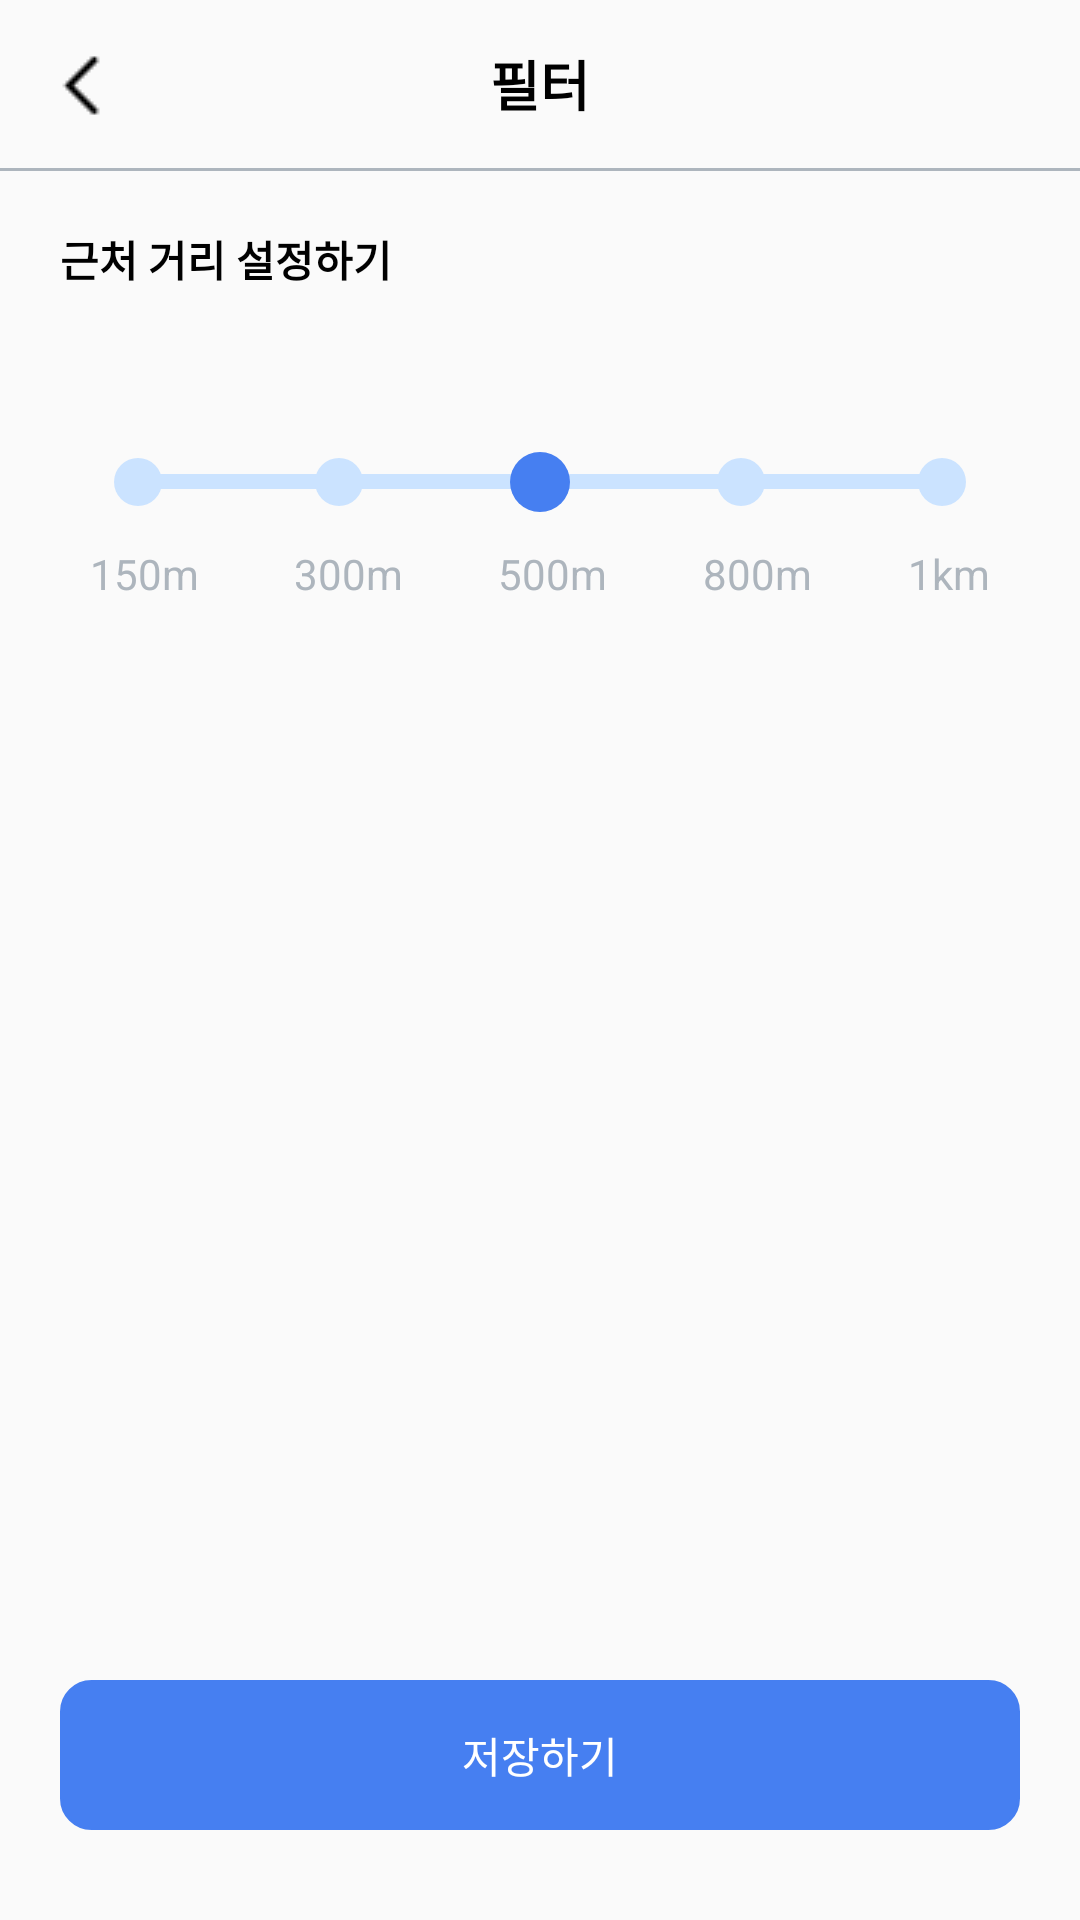

Icon bounding boxes for this 1080 × 1920 phone screenshot, format (x1, y1, x2, y2):
back usage: (63, 56, 100, 115)
